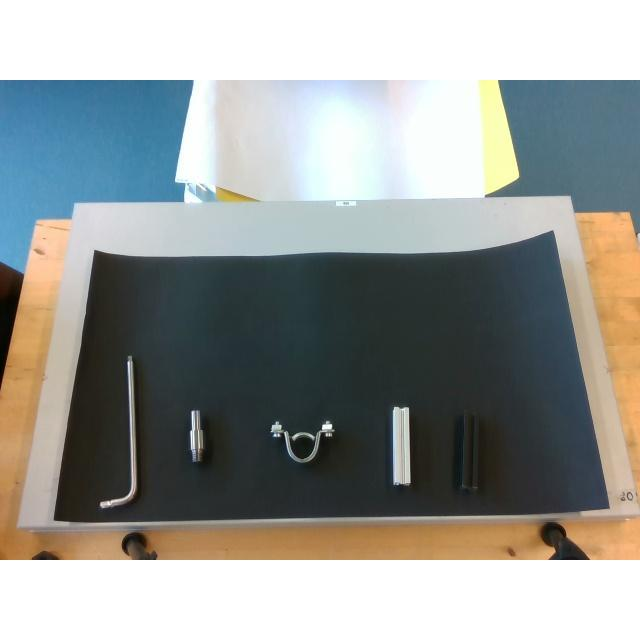AllenKey: (99, 356, 137, 508)
Axis2: (188, 410, 204, 462)
F20_20_B: (454, 414, 478, 491)
F20_20_G: (391, 406, 411, 486)
Housing: (270, 421, 334, 463)
